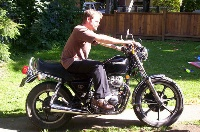person: (61, 9, 136, 112)
